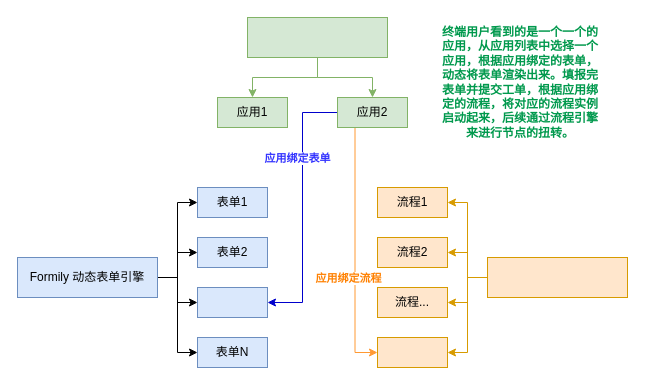
Image size: 645x385. Some labels were removed from this diagram. The centre of each missing label's shape, as x and y in pixels:
应用: the point at 317,37
流程4: the point at 412,352
流程画布: the point at 557,277
表单...: the point at 232,302
